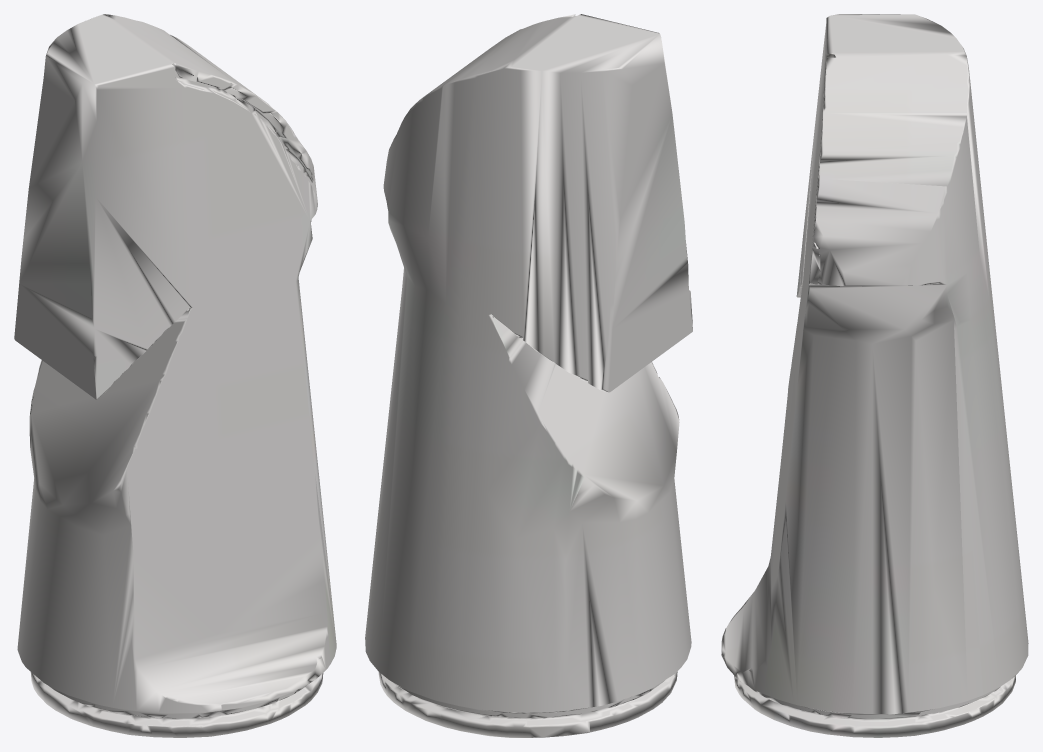
Rendered from 04_jezdec_bila.glb.
3 renders of one model, left to right at view 1: azimuth 30°, elevation 25°; view 2: azimuth 150°, elevation 25°; view 3: azimuth 270°, elevation 25°, orthographic. The views are drawn at different scales.
Parts seen in each view (by area): view 1: 04_jezdec_bila; view 2: 04_jezdec_bila; view 3: 04_jezdec_bila.
Part boxes in pixels (x1,y1,x2,y2): 04_jezdec_bila: (14,14,336,737); 04_jezdec_bila: (365,14,692,737); 04_jezdec_bila: (721,14,1028,737).
Bounding box in the file's own units: 0.0378 × 0.0832 × 0.0377.
1 material, 1 textured.
